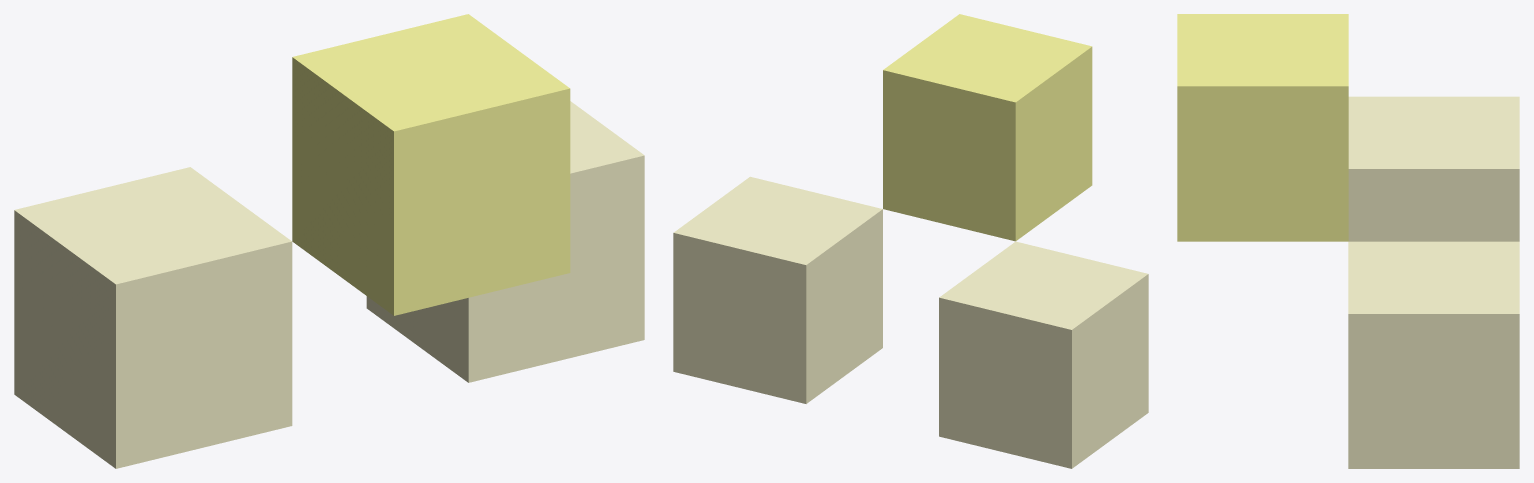
The model's file is fairy.dae.
3 views of the same model, side by side, from view 1: azimuth 30°, elevation 25°; view 2: azimuth 150°, elevation 25°; view 3: azimuth 270°, elevation 25° (orthographic). The views are drawn at different scales.
Parts seen in each view (by area): view 1: fairy.fairy1; view 2: fairy.fairy1; view 3: fairy.fairy1.
Part boxes in pixels (left/top/right/bottom): fairy.fairy1: left=14, top=14, right=644, bottom=468; fairy.fairy1: left=673, top=14, right=1148, bottom=468; fairy.fairy1: left=1177, top=14, right=1519, bottom=468.
Bounding box in the file's own units: 0.3 × 0.2 × 0.2.
1 material, 1 textured.
